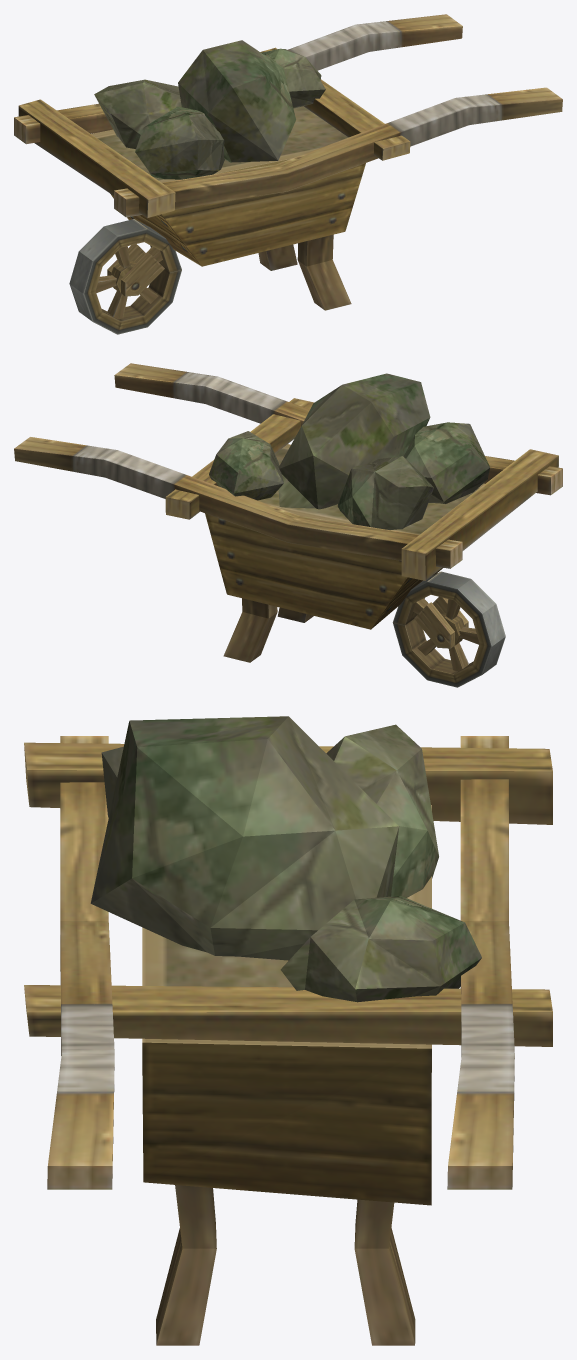
File: rearcar_breakout.FBX
3 renders of one model, top to bottom at view 1: azimuth 30°, elevation 25°; view 2: azimuth 150°, elevation 25°; view 3: azimuth 270°, elevation 25°, orthographic. The views are drawn at different scales.
Parts seen in each view (by area): view 1: rearcar_breakout; view 2: rearcar_breakout; view 3: rearcar_breakout.
Part boxes in pixels (x1,y1,x2,y2): rearcar_breakout: (14,14,562,334); rearcar_breakout: (14,363,562,687); rearcar_breakout: (24,716,552,1345).
Size of the model in its own units: 63.59 by 36.92 by 33.58.
